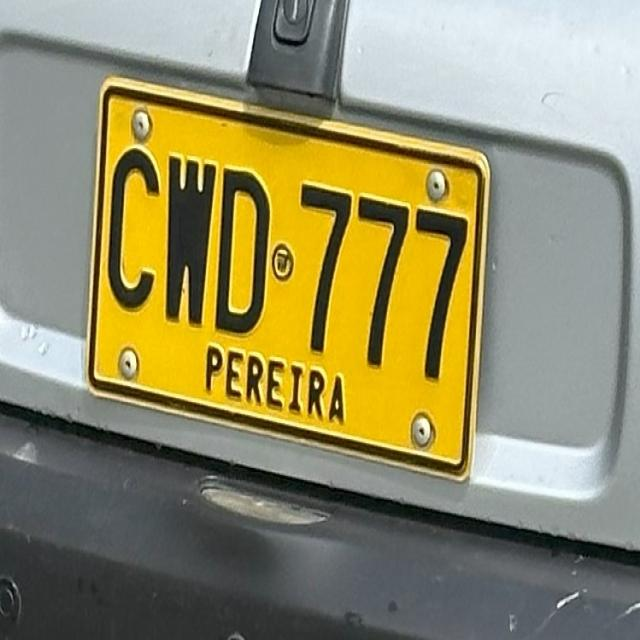number plate: (86, 77, 488, 476)
